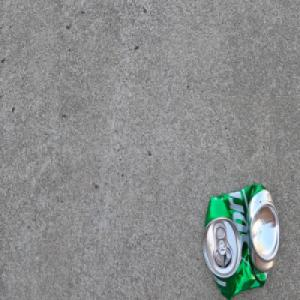SodaCan: (201, 181, 280, 300)
